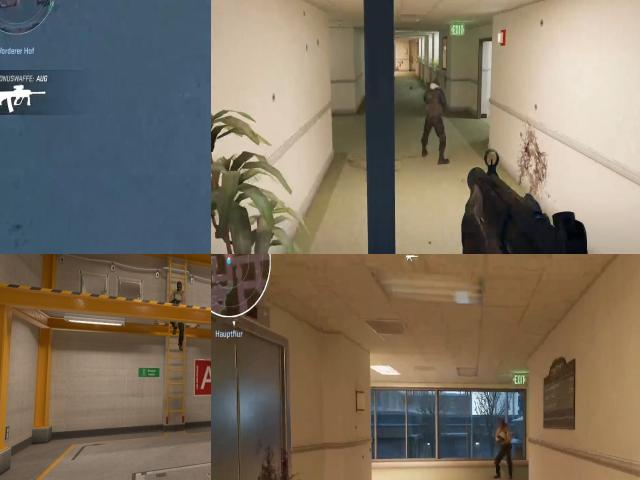CT: (421, 77, 446, 135)
CT-Head: (428, 76, 441, 98)
T: (171, 281, 186, 332), (495, 419, 511, 459)
T-Head: (498, 416, 508, 430), (176, 282, 183, 293)
